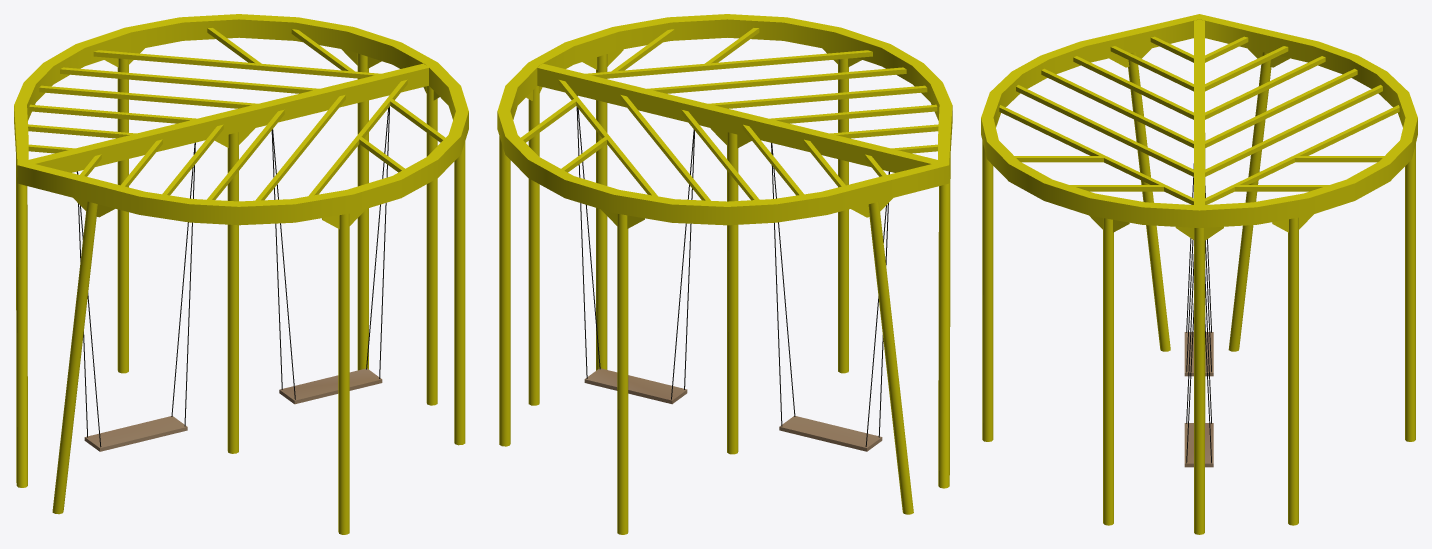
The picture shows the model from 3 angles, left to right: view 1: azimuth 30°, elevation 25°; view 2: azimuth 150°, elevation 25°; view 3: azimuth 270°, elevation 25°; orthographic projection. The views are drawn at different scales.
Visible parts, largest first — view 1: SM_217; view 2: SM_217; view 3: SM_217.
Part boxes in pixels (x1,y1,x2,y2): SM_217: (14, 14, 468, 534); SM_217: (497, 14, 952, 534); SM_217: (981, 14, 1417, 534).
Bounding box in the file's own units: 4.8 × 3.7 × 4.51.
